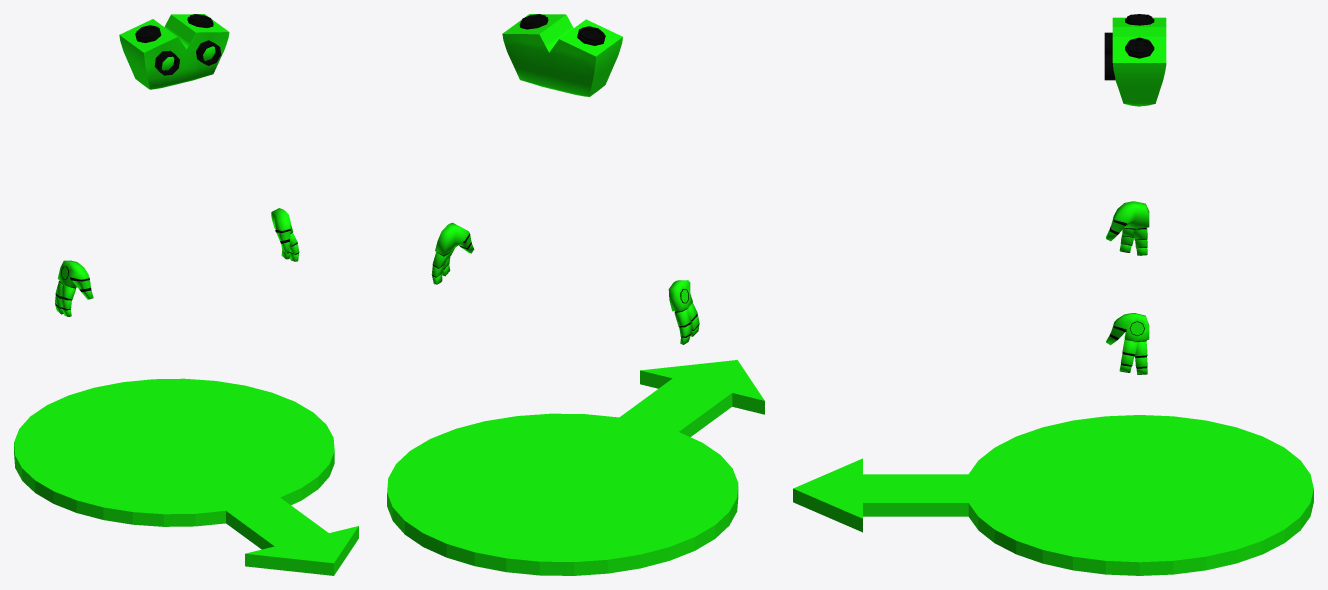
Rendered from player_start.glb.
3 renders of one model, left to right at view 1: azimuth 30°, elevation 25°; view 2: azimuth 150°, elevation 25°; view 3: azimuth 270°, elevation 25°, orthographic. The views are drawn at different scales.
Parts seen in each view (by area): view 1: player_start; view 2: player_start; view 3: player_start.
Part boxes in pixels (x1,y1,x2,y2): player_start: (14, 14, 358, 575); player_start: (387, 14, 764, 575); player_start: (793, 14, 1313, 575).
Size of the model in its own units: 1 by 1.5 by 1.49.
